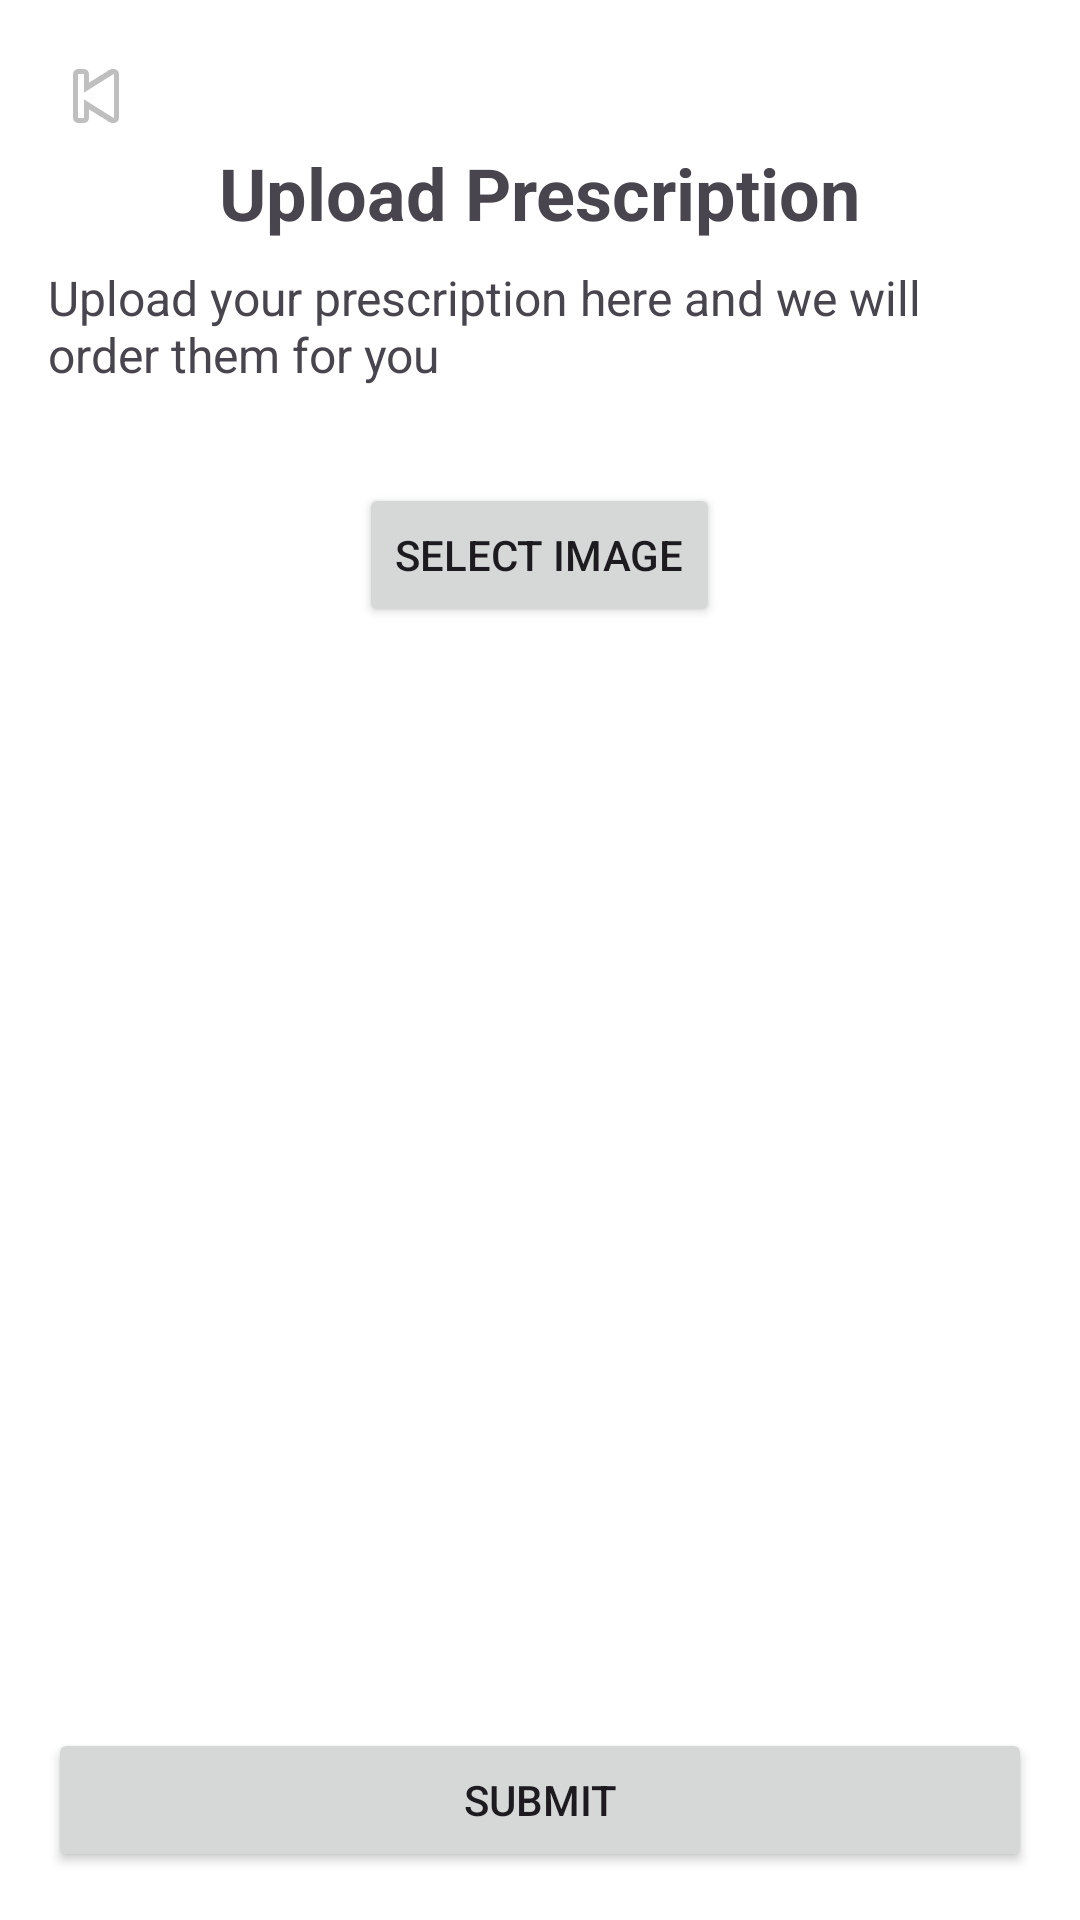

Icons on this 1080w x 1920h Android screen, each with its box as (x1, y1, x2, y2):
previous: (73, 69, 119, 123)
